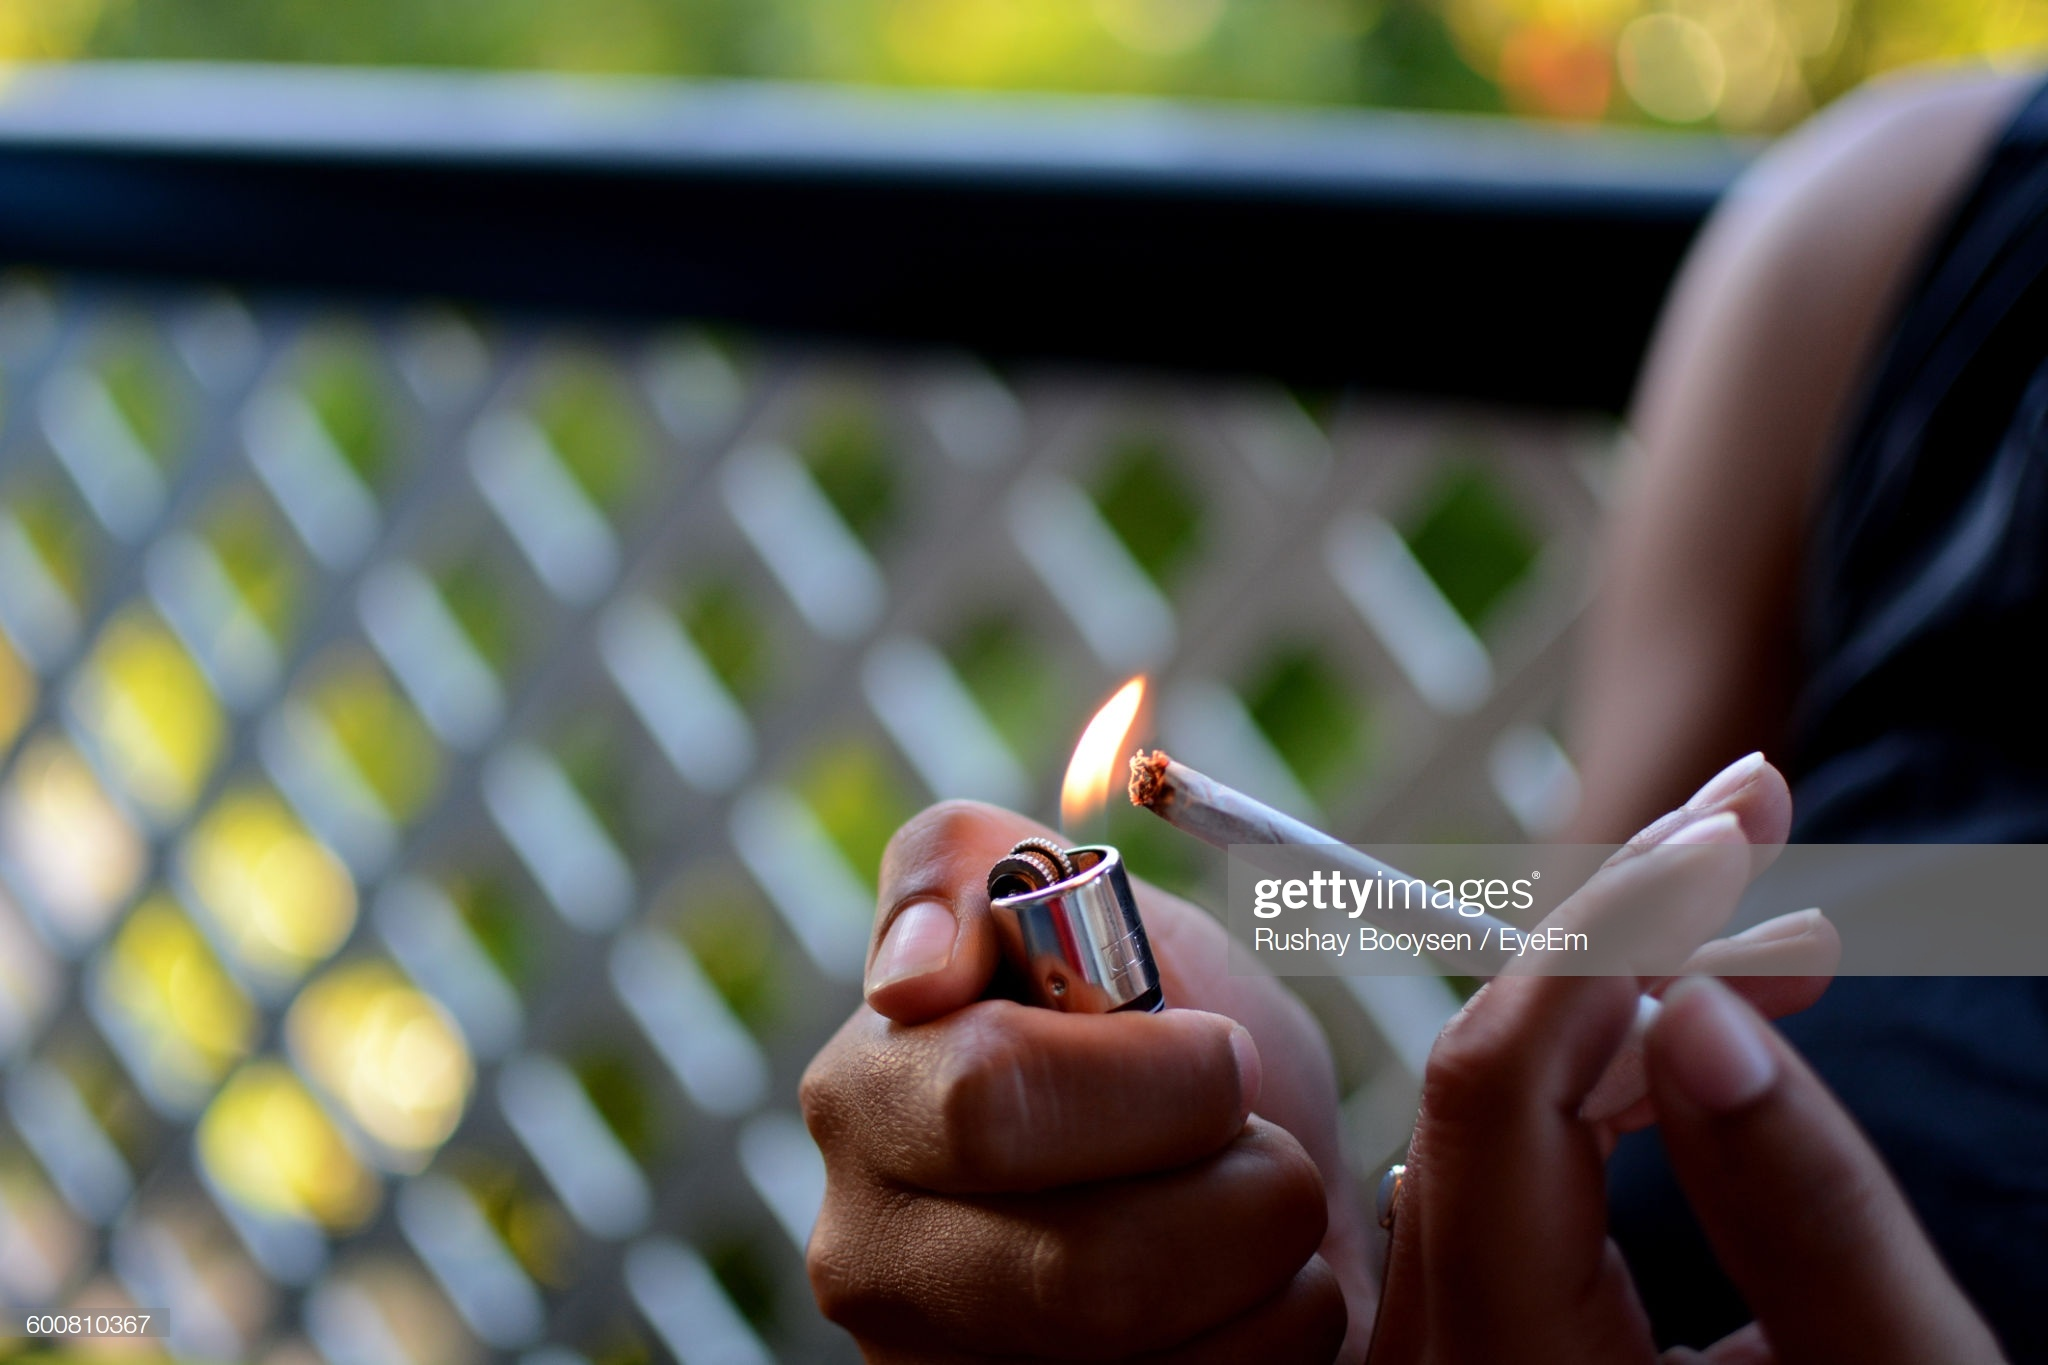sigaretta: (1127, 737, 1619, 1041)
